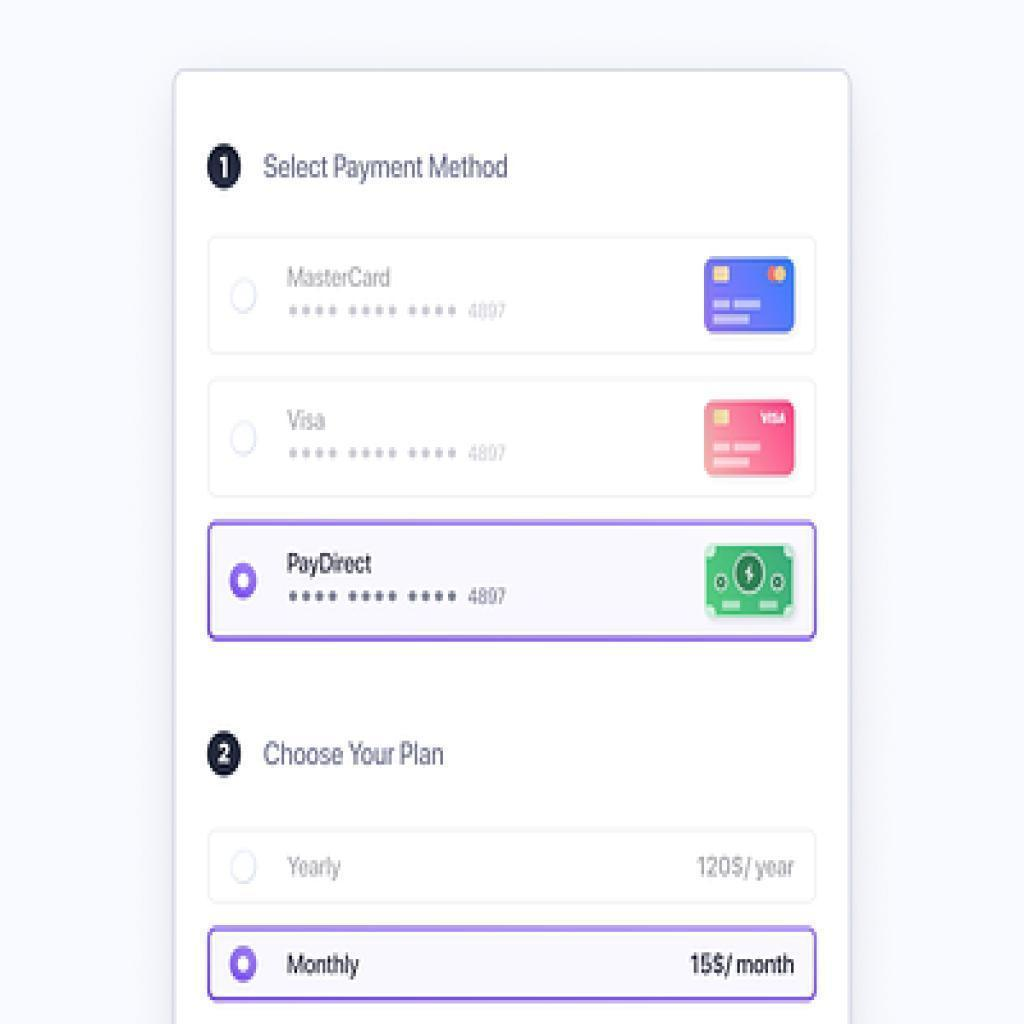label: (283, 548, 507, 620), (284, 264, 521, 328), (284, 404, 512, 470), (256, 143, 514, 185), (261, 739, 455, 774), (686, 945, 804, 983), (698, 850, 804, 892), (283, 944, 367, 976), (283, 853, 357, 888)
radio: (225, 939, 258, 984), (227, 280, 263, 318), (229, 421, 260, 462), (230, 558, 257, 603), (229, 845, 257, 887)
